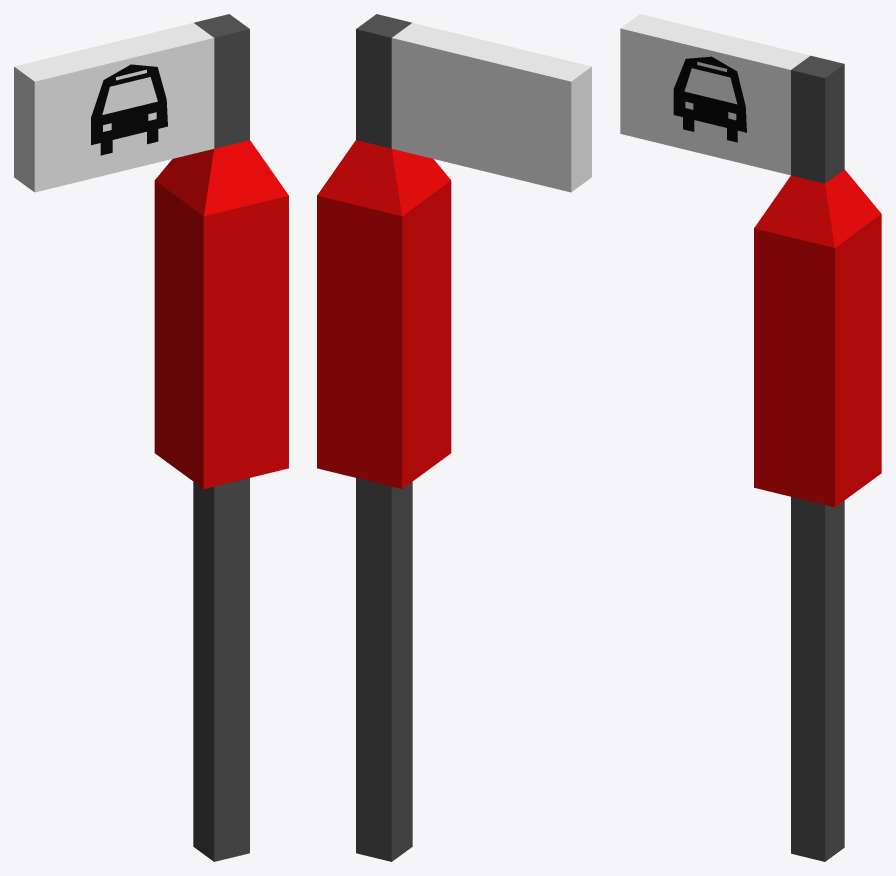
Rendered from bus stop signboard.FBX.
3 renders of one model, left to right at view 1: azimuth 30°, elevation 25°; view 2: azimuth 150°, elevation 25°; view 3: azimuth 330°, elevation 25°, orthographic. The views are drawn at different scales.
Visible parts, largest first — view 1: bus stop sign; view 2: bus stop sign; view 3: bus stop sign.
Boxes of the visible parts, <box> form: bus stop sign: <box>14,14,288,861</box>; bus stop sign: <box>317,14,591,861</box>; bus stop sign: <box>620,14,881,861</box>.
Bounding box in the file's own units: 26.32 × 86.39 × 9.34.
